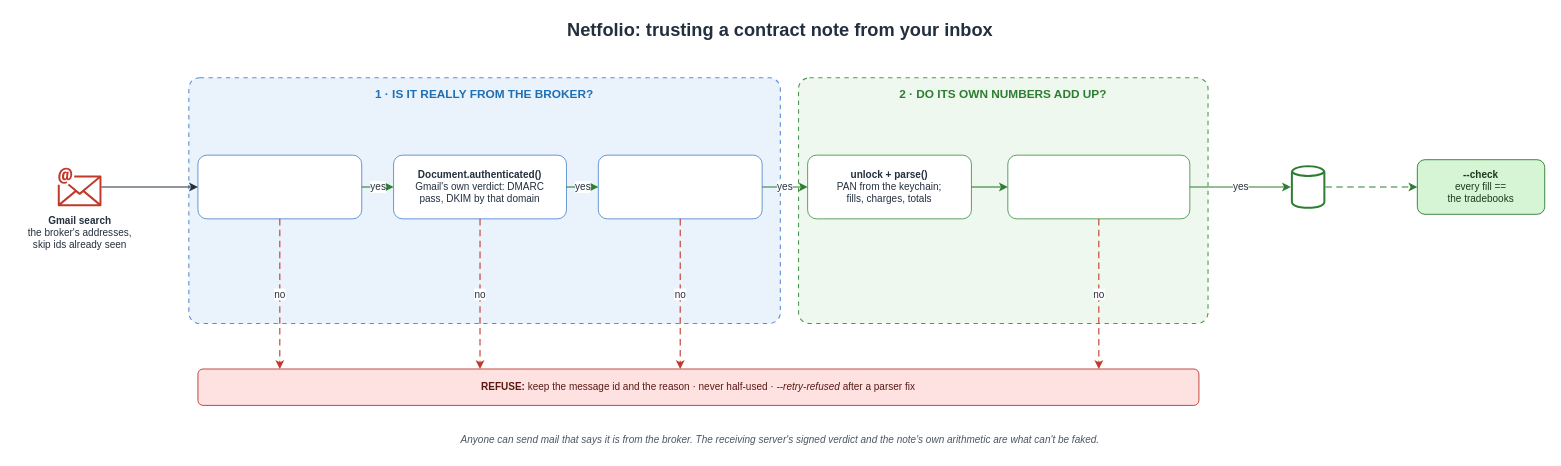
Some shapes in this 1561 by 466 pixel diagram are drawn without their labels. Each missing label, with the centre of its shape:
genuine() From is exactly a known contract-note address: (279,186)
its own sums fills = summary · sells − buys = obligation · + charges = net: (1098,186)
locked() the PDF is password- locked, as every real one is: (679,186)
STORE _contract_notes.json: (1308,186)
